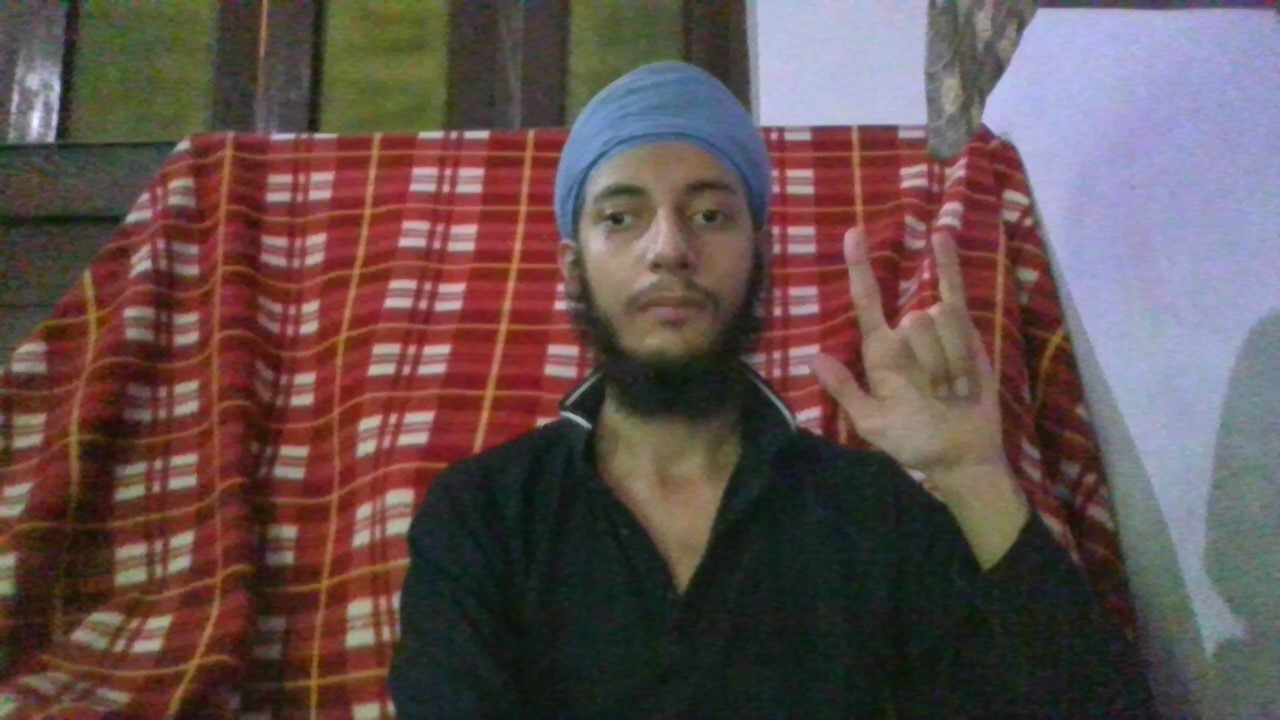I Love You: (806, 223, 1008, 472)
